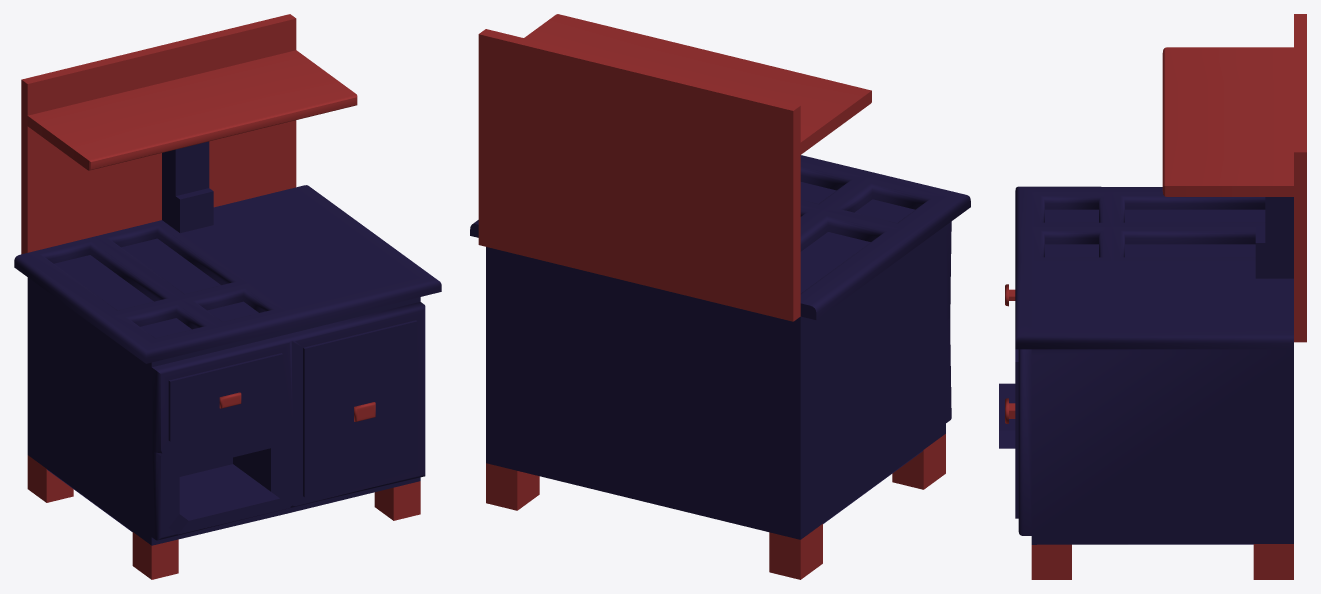
The model's file is Stove.FBX.
3 renders of one model, left to right at view 1: azimuth 30°, elevation 25°; view 2: azimuth 150°, elevation 25°; view 3: azimuth 270°, elevation 25°, orthographic. The views are drawn at different scales.
Visible parts, largest first — view 1: Stove; view 2: Stove; view 3: Stove.
Boxes of the visible parts, bbox=[...] form: Stove: bbox=[14, 14, 441, 579]; Stove: bbox=[470, 14, 970, 579]; Stove: bbox=[999, 14, 1306, 579].
Bounding box in the file's own units: 2.75 × 2.35 × 3.6.
